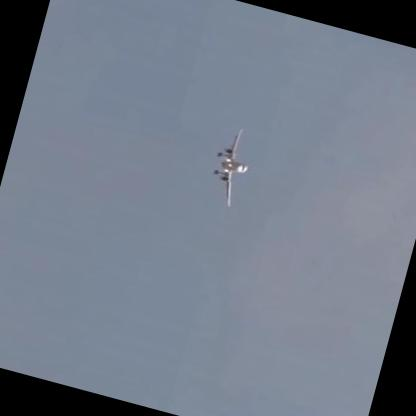plane: (202, 124, 259, 211)
